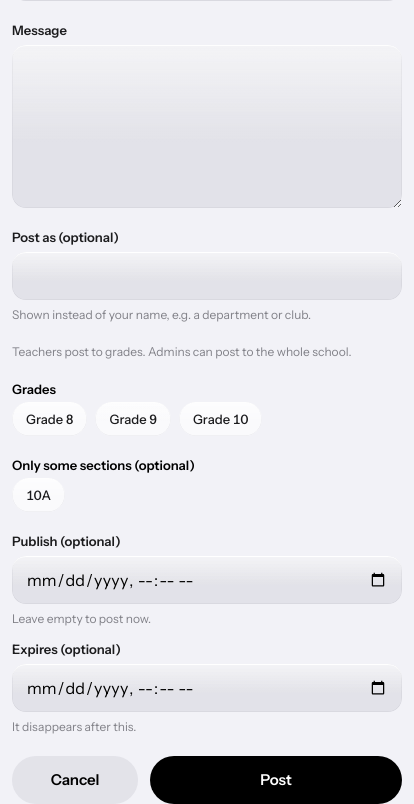
Test: AnnouncementForm › shows errors next to the fields and does not submit
The image size is (414, 804).
(page scrolled)
Click the button "Post": (276, 780) x1=150 y1=756 x2=402 y2=803
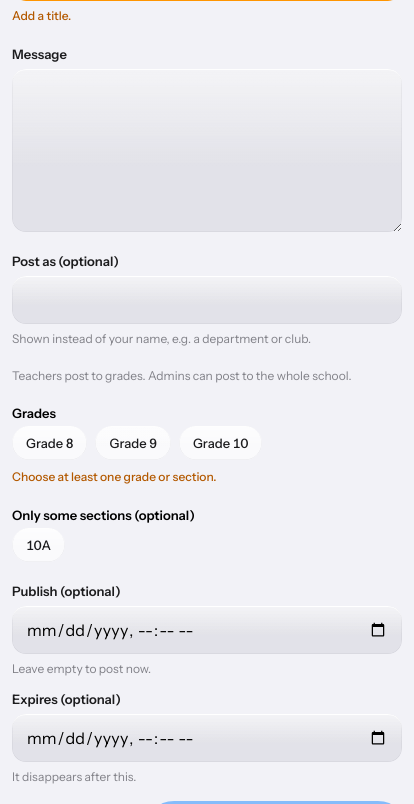
Now the text "Choose at least one grade or section." is shown, box x1=12 y1=469 x2=216 y2=484
